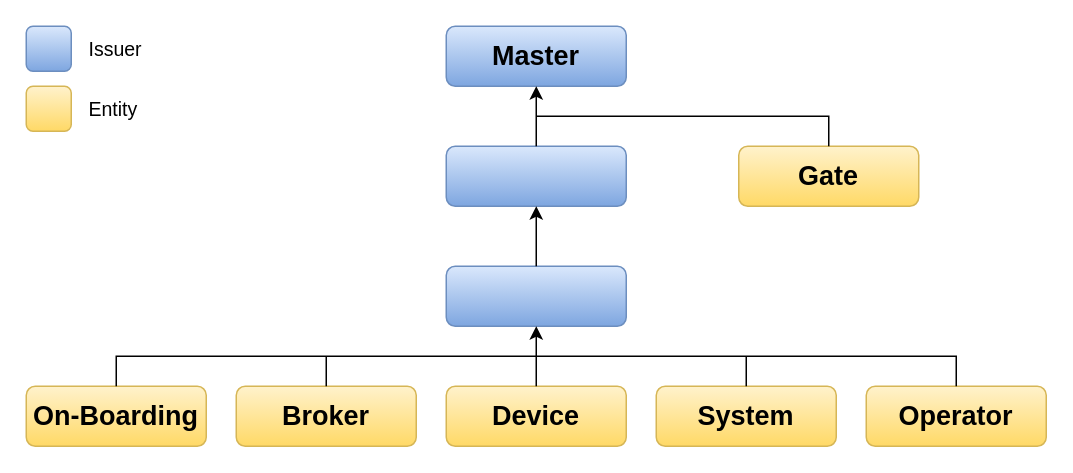
This 1073x473 diagram has some shape labels left out. Each missing label, with the centre of its shape:
"Local Cloud" goes at (x=535, y=295).
"Organization" goes at (x=535, y=175).
